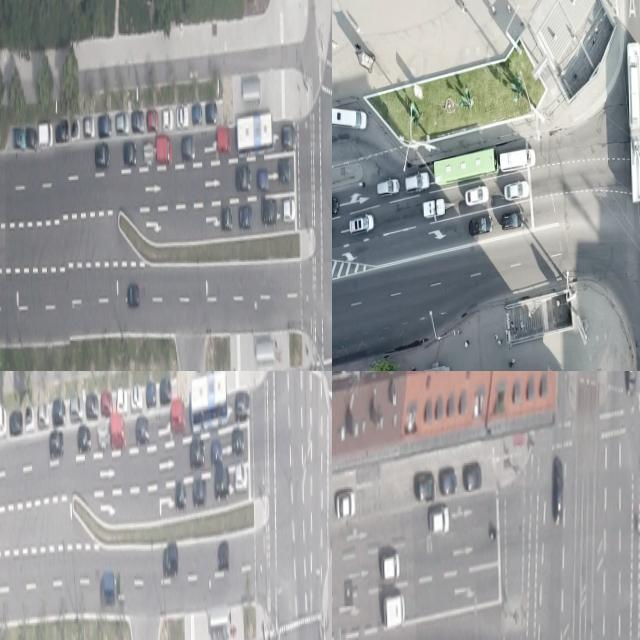UAI: (550, 454, 565, 524), (462, 460, 482, 491), (349, 212, 375, 235), (214, 463, 230, 500), (415, 471, 435, 500), (405, 171, 430, 194), (429, 507, 450, 534), (163, 542, 179, 576), (171, 398, 186, 434), (504, 180, 529, 201), (439, 467, 457, 496), (336, 491, 355, 518), (468, 215, 493, 235), (100, 571, 115, 604), (111, 415, 126, 448), (381, 553, 400, 579), (157, 135, 173, 165), (465, 186, 489, 206), (189, 438, 205, 468), (49, 428, 64, 460), (235, 388, 250, 418), (235, 460, 248, 494), (501, 211, 524, 230), (377, 177, 400, 196), (262, 197, 277, 226), (282, 121, 296, 151), (424, 198, 445, 218), (193, 476, 207, 506), (136, 414, 150, 444), (52, 396, 66, 426), (217, 126, 231, 155), (236, 164, 251, 191), (77, 425, 91, 452), (95, 143, 109, 169), (39, 122, 53, 148), (101, 387, 113, 417), (217, 540, 229, 570), (278, 156, 291, 183), (182, 133, 195, 160), (70, 394, 83, 421), (124, 141, 137, 167), (10, 409, 23, 435), (239, 204, 253, 228), (117, 384, 128, 414), (146, 379, 157, 409), (232, 429, 244, 456), (86, 392, 98, 419), (175, 481, 186, 510), (283, 197, 296, 221), (99, 113, 112, 137), (131, 384, 143, 410), (55, 119, 68, 142), (117, 111, 130, 134), (160, 377, 171, 404), (212, 437, 222, 466), (128, 284, 140, 308), (132, 109, 144, 133), (177, 105, 189, 128), (625, 371, 636, 396), (144, 139, 154, 166), (38, 403, 49, 427), (26, 404, 35, 433), (12, 127, 25, 147), (98, 423, 108, 449), (258, 168, 269, 191), (221, 207, 232, 230), (148, 109, 159, 132), (163, 107, 174, 130), (206, 102, 218, 123), (117, 576, 126, 603), (0, 403, 7, 437), (84, 114, 95, 135), (26, 126, 36, 149), (192, 103, 202, 124), (72, 117, 80, 138)
car: (434, 147, 498, 184), (190, 371, 228, 430), (627, 41, 640, 201), (236, 111, 274, 156)
harvester: (383, 589, 406, 628), (499, 147, 536, 171), (332, 104, 367, 129)
